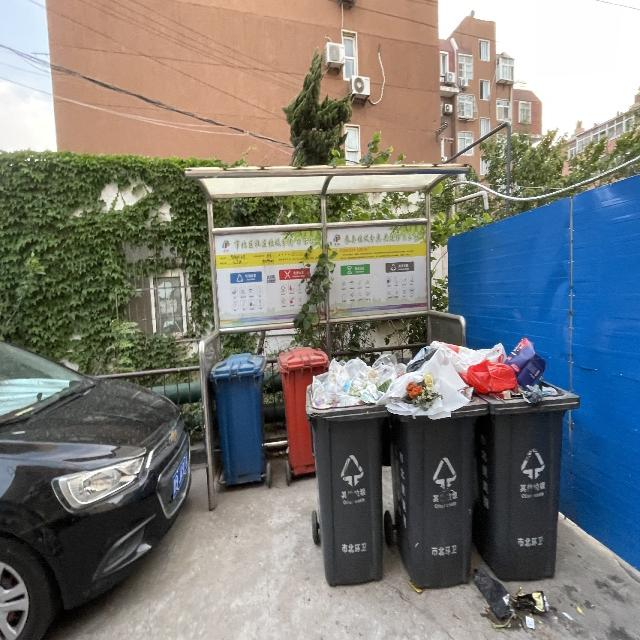garbage: (473, 568, 550, 629)
garbage_bin: (210, 352, 265, 485), (276, 345, 329, 475)
overflow: (472, 338, 579, 581), (386, 339, 486, 587), (304, 356, 388, 586)
